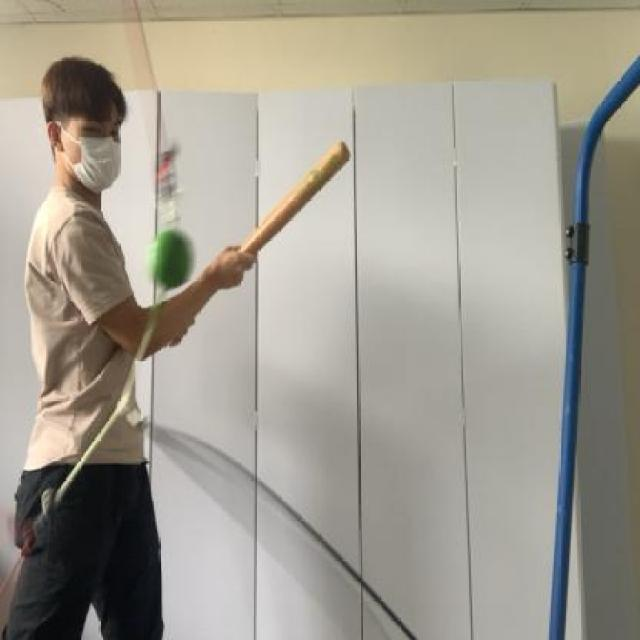baseball: (144, 218, 198, 296)
